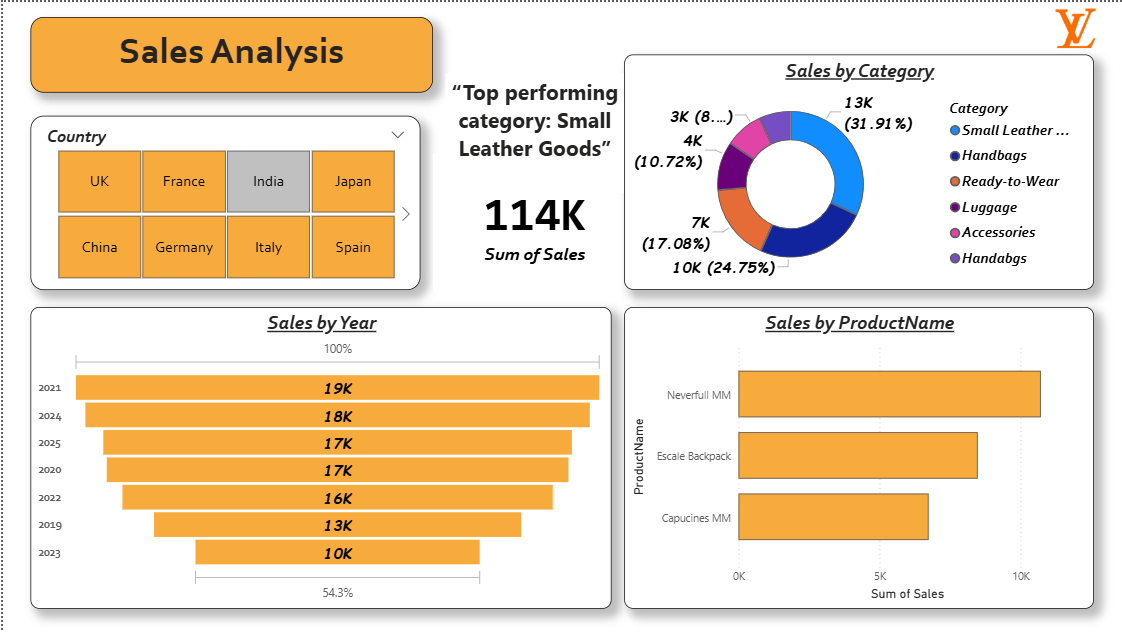

What the dashboard file says about the page in this screenshot:
{"tool":"powerbi","page":{"name":"Sales","canvas":[1280,720],"ordinal":1},"visuals":[{"type":"textbox","box":[31.6,17.8,459.7,86.4],"z":0},{"type":"slicer","fields":{"Values":["Sheet1.Country"]},"box":[31.6,130.4,446,199],"z":1000},{"type":"card","fields":{"Values":["Sum(Sheet1.Profit)"]},"box":[491.3,172.9,175.6,156.4],"z":2000},{"type":"card","fields":{"Values":["Sum(Sheet1.Sales)"]},"box":[520.1,172.9,175.6,156.4],"z":3000},{"type":"funnel","title":"Sales by Year","fields":{"Category":["Sheet1.Year"],"Y":["Sum(Sheet1.Sales)"]},"box":[31.6,348.5,664.2,344.4],"z":4000},{"type":"barChart","title":"Sales by ProductName","fields":{"Category":["Sheet1.ProductName"],"Y":["Sum(Sheet1.Sales)"]},"box":[709.4,348.5,536.5,344.4],"z":5000},{"type":"donutChart","title":"Sales by Category","fields":{"Y":["Sum(Sheet1.Sales)"],"Category":["Sheet1.Category"]},"box":[709.4,60.4,536.5,269],"z":6000},{"type":"image","box":[1170.5,0,108.4,60.4],"z":7000},{"type":"textbox","box":[505.7,81.4,204.3,137.1],"z":7001}]}

Visuals, with their boxes in screenshot pixels (x1, y1, x2, y2), scaled from the page's 1280x720 canvas onto the 1122x632 screenshot:
textbox: [left=28, top=16, right=431, bottom=91]
slicer - Sheet1.Country: [left=28, top=114, right=419, bottom=289]
card - Sum(Sheet1.Profit): [left=431, top=152, right=585, bottom=289]
card - Sum(Sheet1.Sales): [left=456, top=152, right=610, bottom=289]
"Sales by Year" funnel: [left=28, top=306, right=610, bottom=608]
"Sales by ProductName" barChart: [left=622, top=306, right=1092, bottom=608]
"Sales by Category" donutChart: [left=622, top=53, right=1092, bottom=289]
image: [left=1026, top=0, right=1121, bottom=53]
textbox: [left=443, top=71, right=622, bottom=192]
